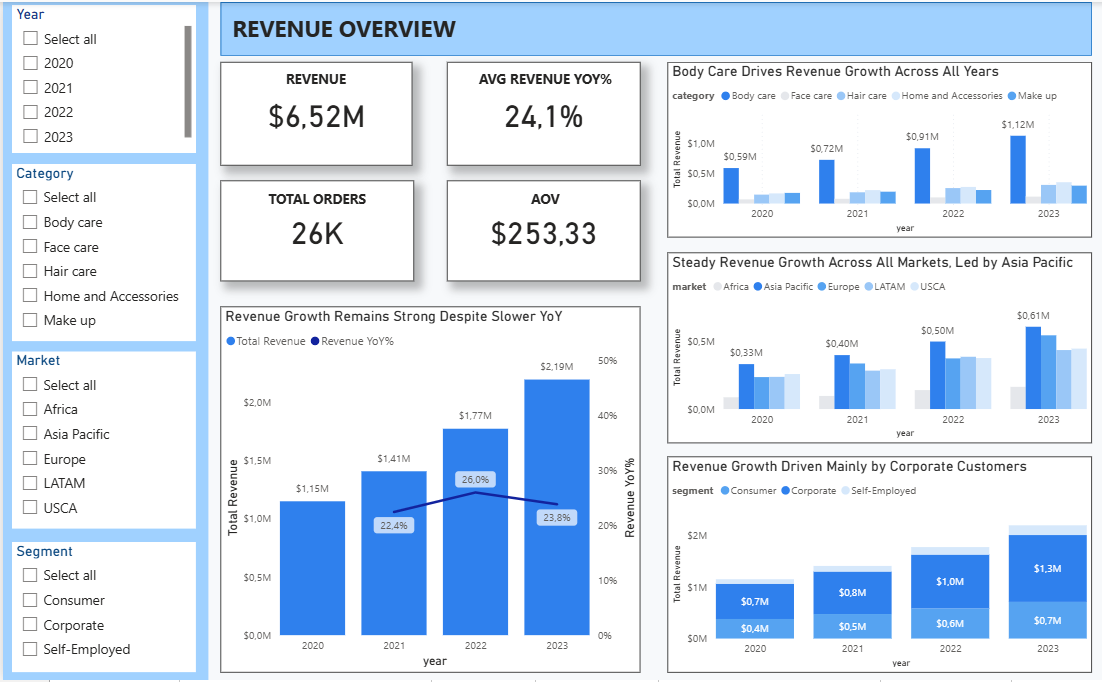

This screenshot's page, from the dashboard's own definition file:
{"tool":"powerbi","page":{"name":"Revenue","canvas":[1300,800],"ordinal":0},"visuals":[{"type":"shape","box":[0,0,242,800.9],"z":0},{"type":"slicer","title":"Year","fields":{"Values":["date.year"]},"box":[9.8,3.9,216.5,173.2],"z":1000},{"type":"slicer","title":"Category","fields":{"Values":["dim_product.category"]},"box":[9.8,190.9,216.5,208.6],"z":2000},{"type":"slicer","title":"Market","fields":{"Values":["dim_region.market"]},"box":[9.8,411.3,216.5,208.6],"z":3000},{"type":"slicer","title":"Segment","fields":{"Values":["sales.segment"]},"box":[9.8,635.6,216.5,153.5],"z":4000},{"type":"card","fields":{"Values":["sales.Total Revenue"]},"box":[256.3,70.7,226.2,121.9],"z":5000},{"type":"card","fields":{"Values":["sales.Avg Revenue YoY %"]},"box":[523.1,70.7,228,121.9],"z":6000},{"type":"card","fields":{"Values":["sales.Total Orders"]},"box":[256.3,210.3,228,118.4],"z":7000},{"type":"card","fields":{"Values":["sales.AOV"]},"box":[523.1,210.3,228,118.4],"z":8000},{"type":"lineClusteredColumnComboChart","title":"Revenue Growth Remains Strong Despite Slower YoY","fields":{"Category":["date.year"],"Y":["sales.Total Revenue"],"Y2":["sales.Revenue YoY%"]},"box":[256.3,358.8,494.9,431.2],"z":9000},{"type":"clusteredColumnChart","title":"Body Care Drives Revenue Growth Across All Years","fields":{"Category":["date.year"],"Y":["sales.Total Revenue"],"Series":["dim_product.category"]},"box":[782.9,70.7,500.2,206.8],"z":10000},{"type":"clusteredColumnChart","title":"Steady Revenue Growth Across All Markets, Led by Asia Pacific","fields":{"Category":["date.year"],"Y":["sales.Total Revenue"],"Series":["dim_region.market"]},"box":[782.9,295.1,500.2,224.5],"z":11000},{"type":"columnChart","title":"Revenue Growth Driven Mainly by Corporate Customers","fields":{"Category":["date.year"],"Y":["sales.Total Revenue"],"Series":["sales.segment"]},"box":[782.9,535.5,500.2,254.5],"z":12000},{"type":"shape","box":[256.3,0,1026.8,63.6],"z":13000},{"type":"textbox","box":[277,215,185.6,42.4],"z":14000},{"type":"textbox","box":[546.1,215,185.6,42.4],"z":15000},{"type":"textbox","box":[535.5,74.2,206.8,42.4],"z":16000},{"type":"textbox","box":[275.7,74.2,185.6,42.4],"z":17000},{"type":"textbox","box":[265.6,7.9,1007.5,74.8],"z":18000}]}

Visuals, with their boxes in screenshot pixels (x1, y1, x2, y2), scaled from the page's 1300x800 canvas onto the 1102x682 screenshot:
shape: l=0, t=0, r=205, b=681
"Year" slicer: l=8, t=3, r=192, b=151
"Category" slicer: l=8, t=163, r=192, b=341
"Market" slicer: l=8, t=351, r=192, b=528
"Segment" slicer: l=8, t=542, r=192, b=673
card - sales.Total Revenue: l=217, t=60, r=409, b=164
card - sales.Avg Revenue YoY %: l=443, t=60, r=637, b=164
card - sales.Total Orders: l=217, t=179, r=411, b=280
card - sales.AOV: l=443, t=179, r=637, b=280
"Revenue Growth Remains Strong Despite Slower YoY" lineClusteredColumnComboChart: l=217, t=306, r=637, b=673
"Body Care Drives Revenue Growth Across All Years" clusteredColumnChart: l=664, t=60, r=1088, b=237
"Steady Revenue Growth Across All Markets, Led by Asia Pacific" clusteredColumnChart: l=664, t=252, r=1088, b=443
"Revenue Growth Driven Mainly by Corporate Customers" columnChart: l=664, t=457, r=1088, b=673
shape: l=217, t=0, r=1088, b=54
textbox: l=235, t=183, r=392, b=219
textbox: l=463, t=183, r=620, b=219
textbox: l=454, t=63, r=629, b=99
textbox: l=234, t=63, r=391, b=99
textbox: l=225, t=7, r=1079, b=71
